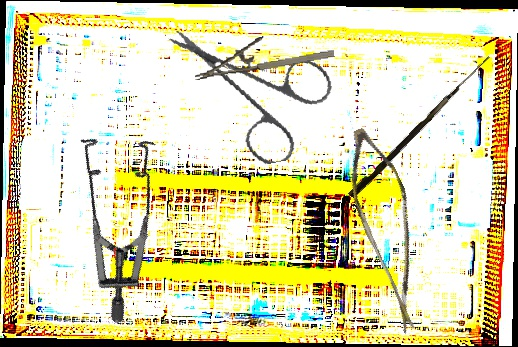Hook Surgical: (348, 50, 490, 201)
Iris Scissors: (167, 3, 345, 179)
Micro Scissor: (318, 122, 462, 337)
Needle Holder: (190, 26, 336, 81)
Speculum: (6, 108, 215, 326)
